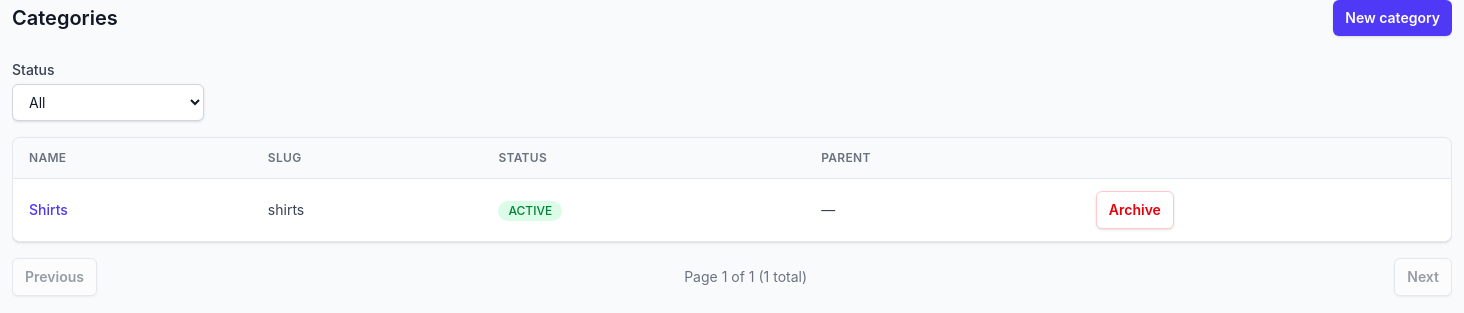
Test: CategoriesListPage › archives a category, refetches, and shows a success toast
Expected: the link "Shirts" is shown, [29,201,68,218]
Click the button "Archive".
click(1135, 210)  # box [1096,191,1174,229]
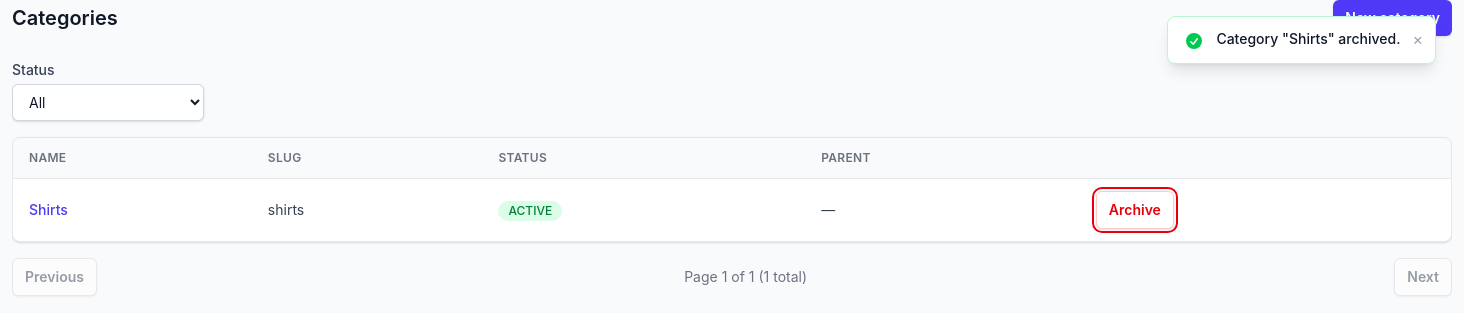
Expected: the text "Category \"Shirts\" archived." is shown, [1216,29,1400,49]
